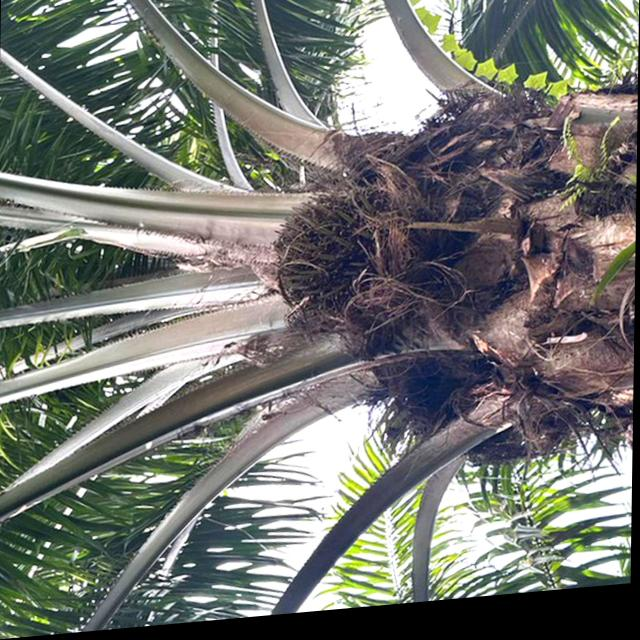unripe: (265, 180, 401, 342)
